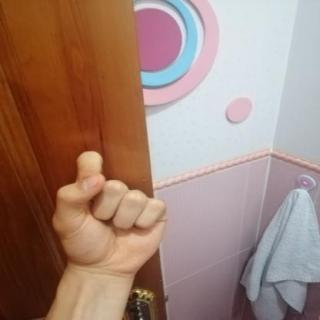FAA: (42, 141, 179, 282)
